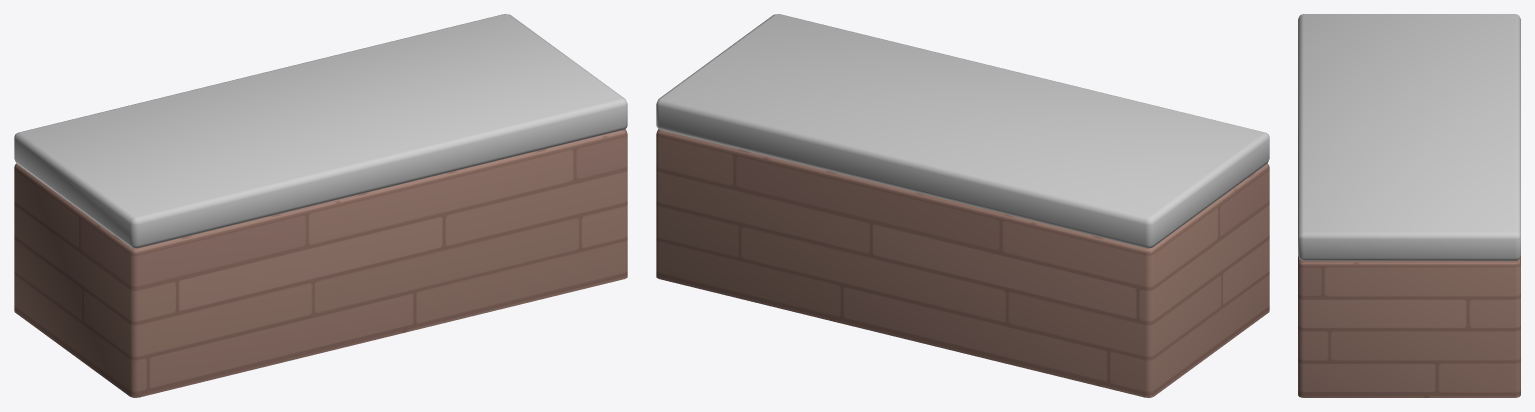
Rendered from Florist_Table_01.fbx.
The picture shows the model from 3 angles, left to right: view 1: azimuth 30°, elevation 25°; view 2: azimuth 150°, elevation 25°; view 3: azimuth 270°, elevation 25°; orthographic projection. The views are drawn at different scales.
Visible parts, largest first — view 1: Florist_Table_02; view 2: Florist_Table_02; view 3: Florist_Table_02.
Part boxes in pixels (x1=…): Florist_Table_02: x1=14, y1=14, x2=627, y2=397; Florist_Table_02: x1=656, y1=14, x2=1269, y2=397; Florist_Table_02: x1=1298, y1=14, x2=1520, y2=397.
Size of the model in its own units: 372 by 128 by 158.
